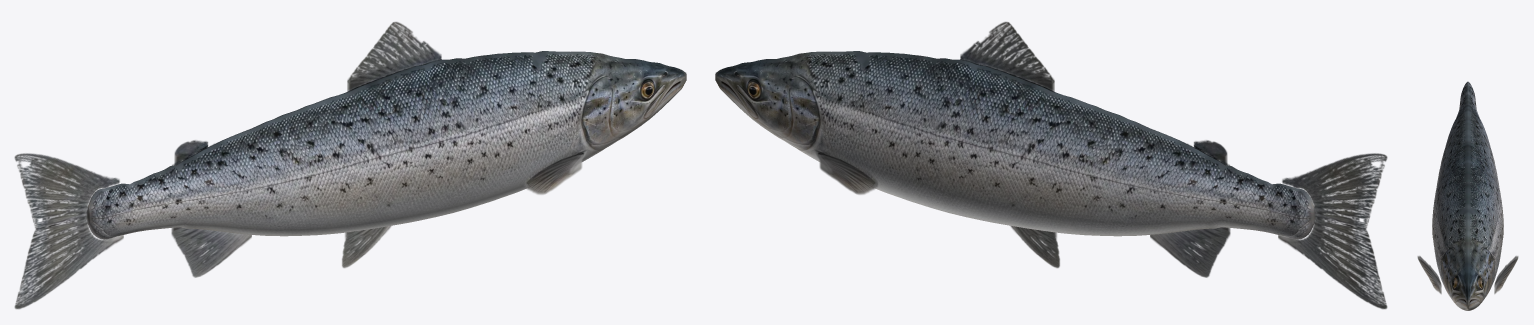
Rendered from salmo_salar.glb.
The picture shows the model from 3 angles, left to right: view 1: azimuth 30°, elevation 25°; view 2: azimuth 150°, elevation 25°; view 3: azimuth 270°, elevation 25°; orthographic projection. The views are drawn at different scales.
Parts seen in each view (by area): view 1: salmo_salar; view 2: salmo_salar; view 3: salmo_salar.
Boxes of the visible parts, <box> form: salmo_salar: <box>14,22,686,309</box>; salmo_salar: <box>715,22,1387,309</box>; salmo_salar: <box>1417,81,1518,310</box>.
Size of the model in its own units: 0.3806 by 0.1272 by 0.0726.
1 material, 1 textured.
